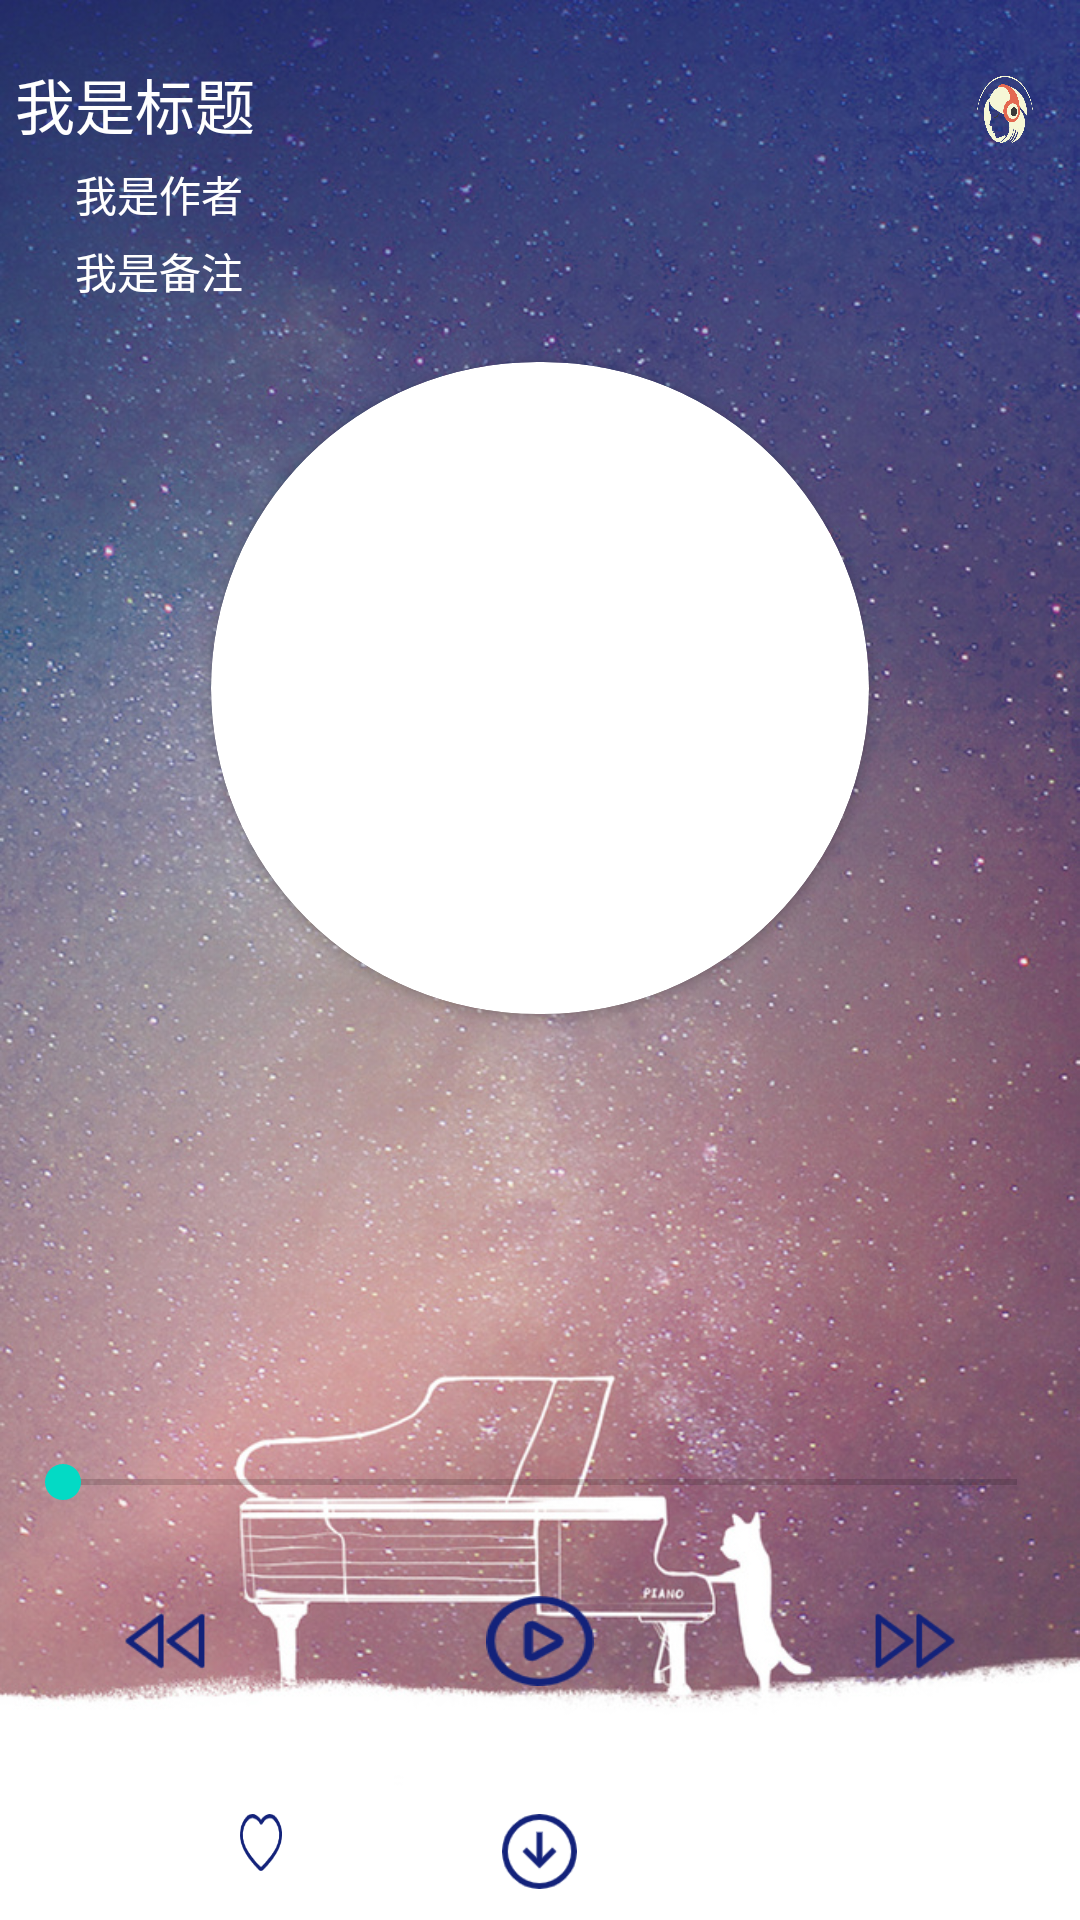

Where to tap for icons on this 1080x1920 app screen, as point (x, y):
download: point (539, 1851)
last: point (165, 1639)
like: point (261, 1842)
next: point (915, 1641)
start: point (540, 1641)
